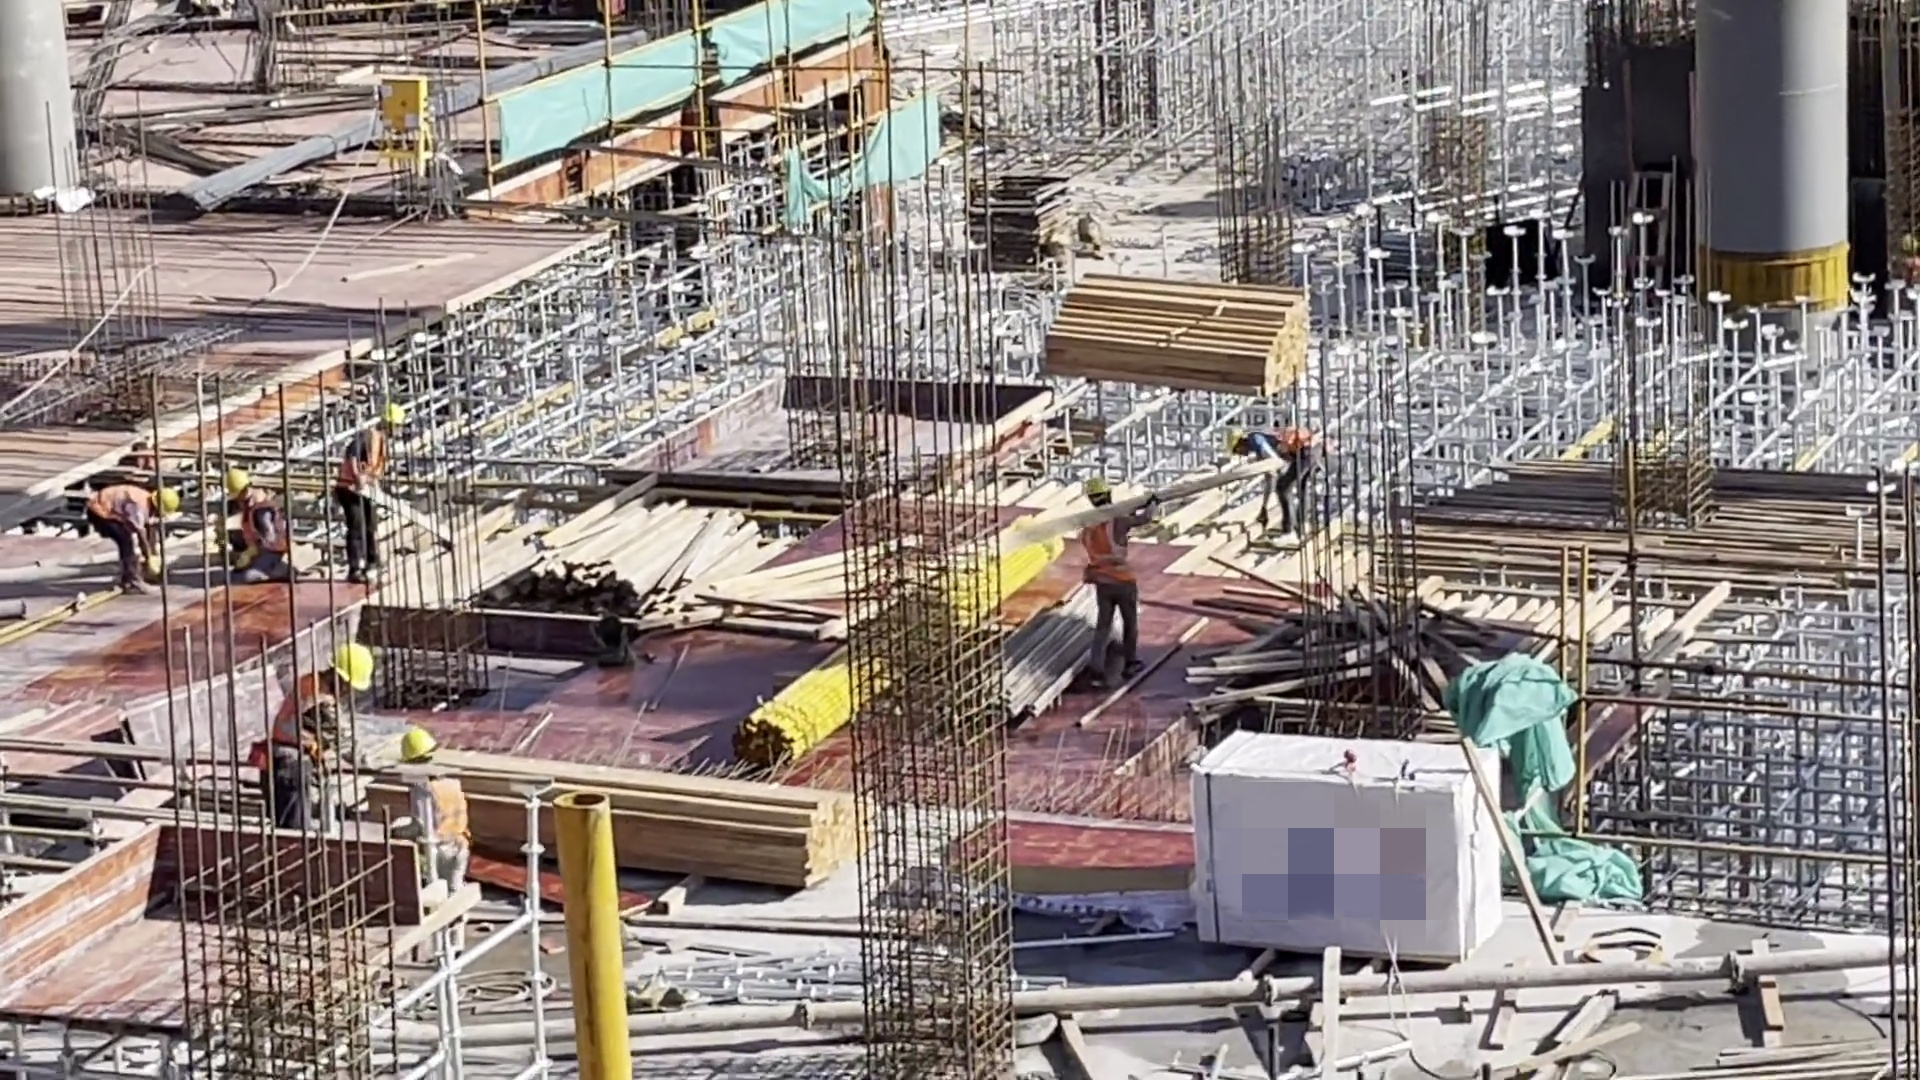helmet: (316, 635, 380, 686), (215, 446, 257, 500), (392, 723, 443, 765), (364, 392, 407, 432), (1074, 470, 1116, 506), (140, 474, 179, 508), (1219, 422, 1254, 458)
person: (366, 722, 496, 917), (259, 644, 361, 833), (321, 400, 417, 590), (1078, 464, 1148, 678), (1221, 428, 1337, 546), (90, 471, 202, 580), (211, 454, 297, 583)
vest: (271, 676, 344, 756), (1083, 512, 1141, 598), (89, 481, 161, 538), (332, 434, 394, 499), (1251, 426, 1327, 474), (417, 773, 471, 839), (238, 494, 290, 554)
